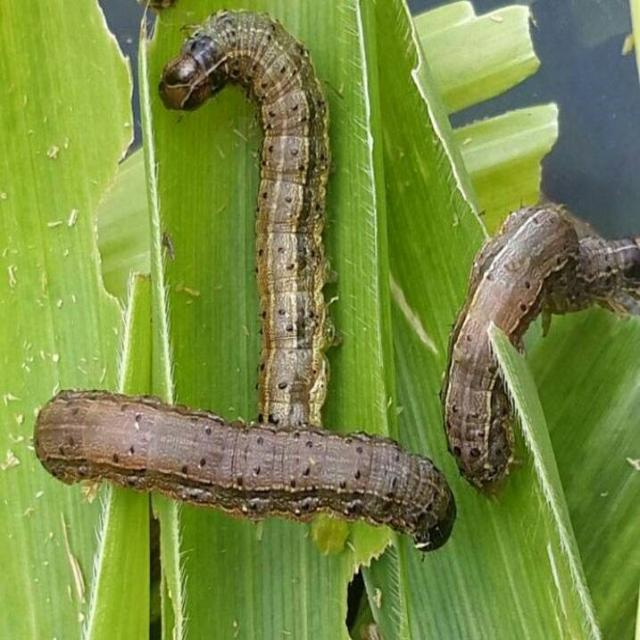worm: (32, 368, 460, 582), (157, 8, 341, 429), (438, 200, 640, 498)
